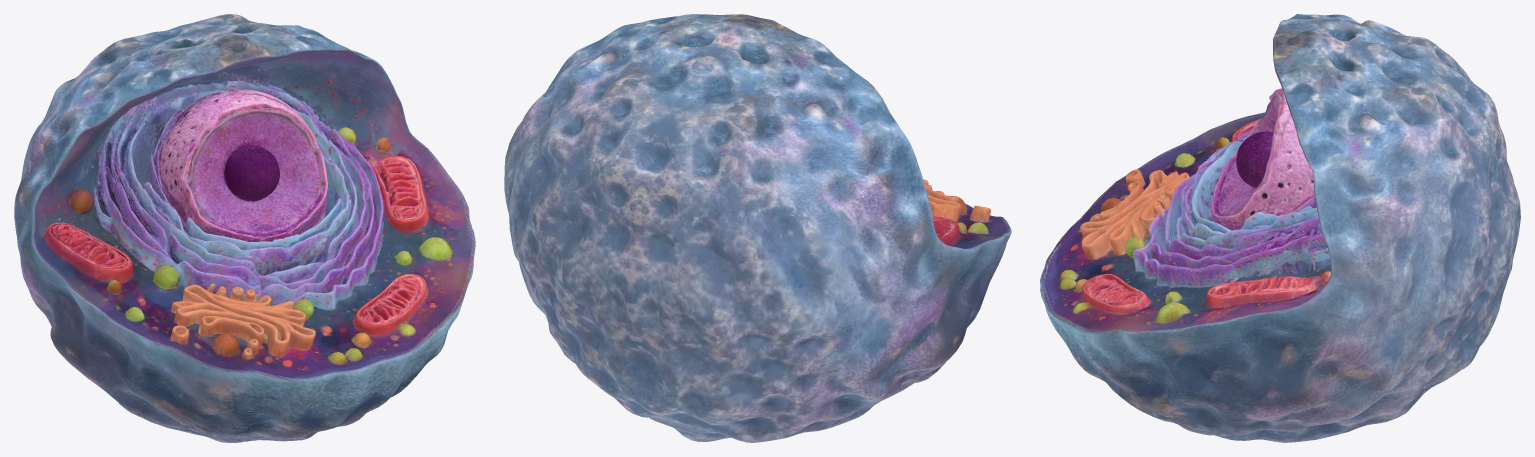
File: cell.glb
The picture shows the model from 3 angles, left to right: view 1: azimuth 30°, elevation 25°; view 2: azimuth 150°, elevation 25°; view 3: azimuth 270°, elevation 25°; orthographic projection. The views are drawn at different scales.
Parts seen in each view (by area): view 1: mesh_node; view 2: mesh_node; view 3: mesh_node.
Boxes of the visible parts, x1,y1,x2,y2 form: mesh_node: (14, 14, 475, 442); mesh_node: (504, 14, 1011, 442); mesh_node: (1040, 14, 1520, 442).
Bounding box in the file's own units: 1.9 × 1.7 × 1.9.
1 material, 1 textured.
